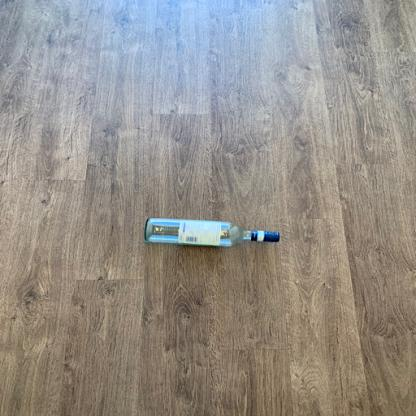trash: (140, 216, 283, 250)
